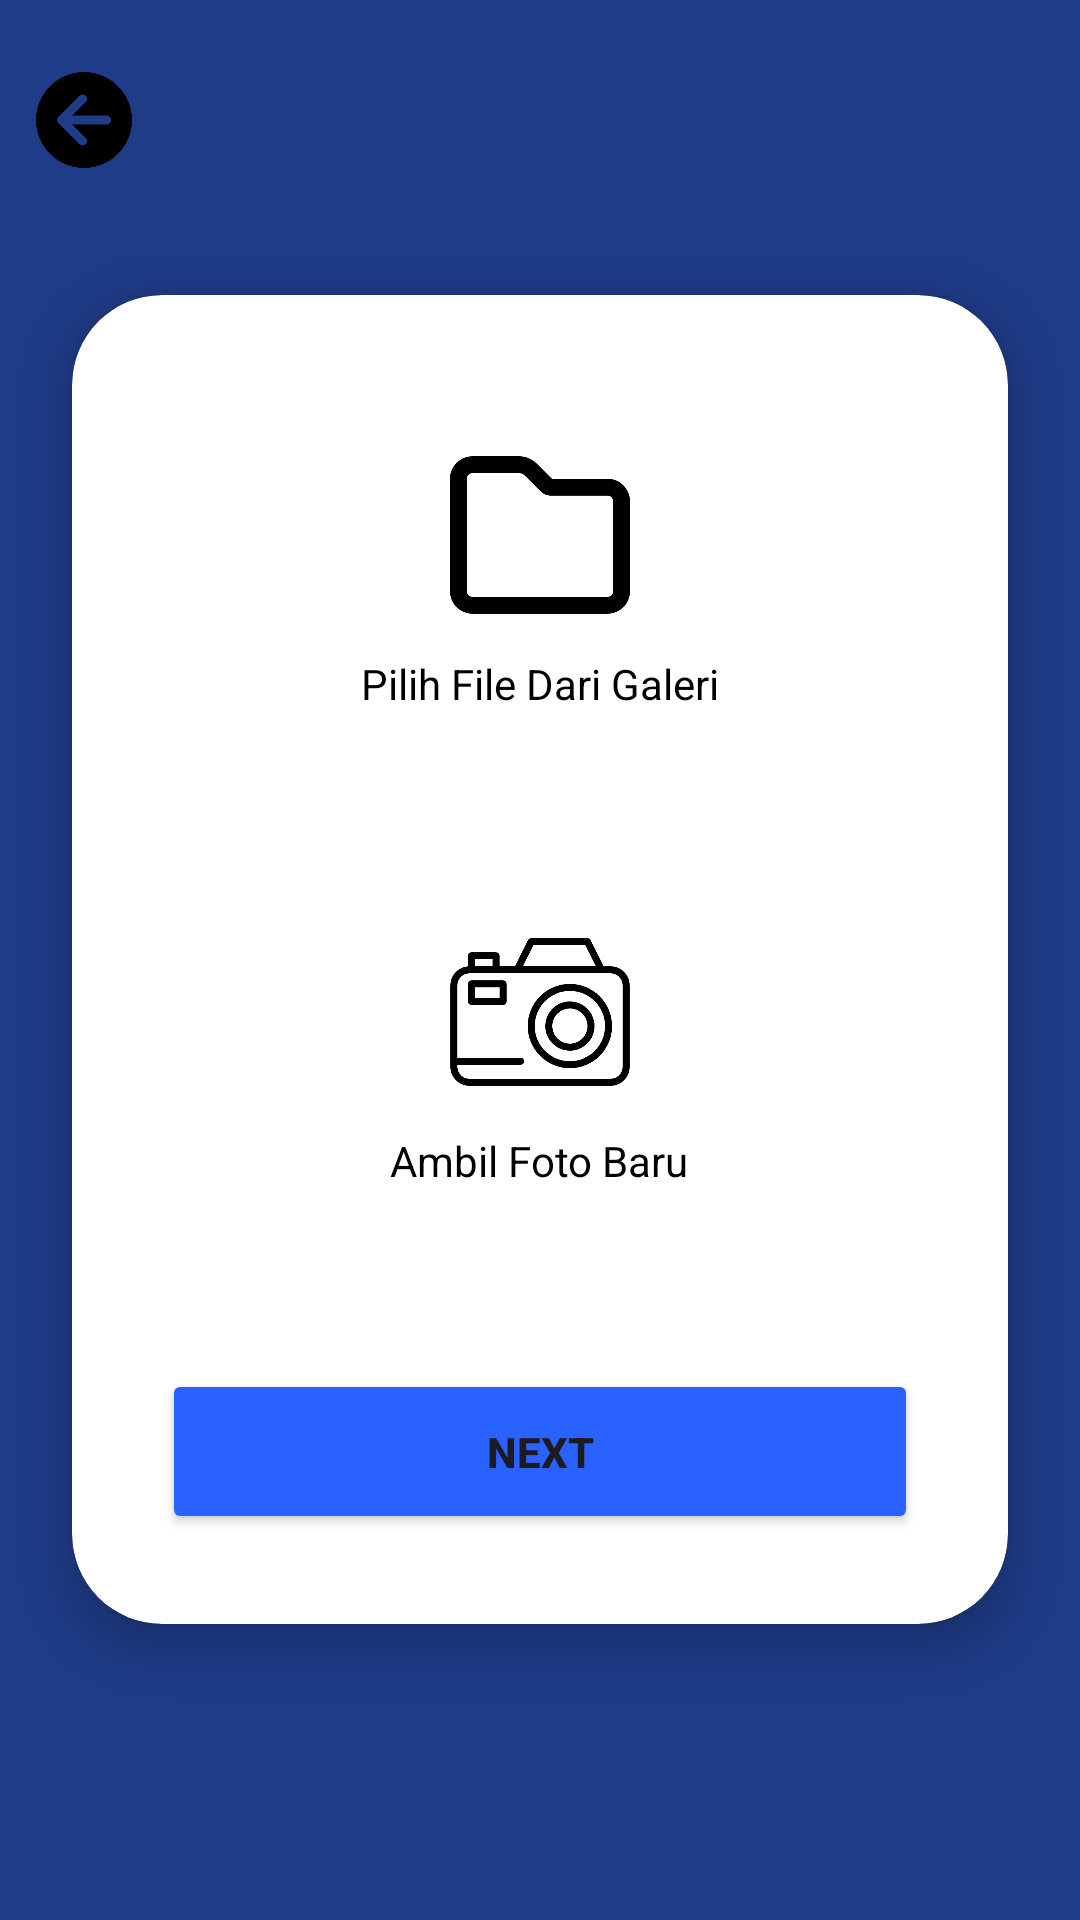

Icon bounding boxes for this 1080px×1920px phone screenshot, format (x1, y1, x2, y2):
Back: (36, 72, 132, 168)
camera: (450, 938, 630, 1086)
folder: (450, 456, 630, 614)
